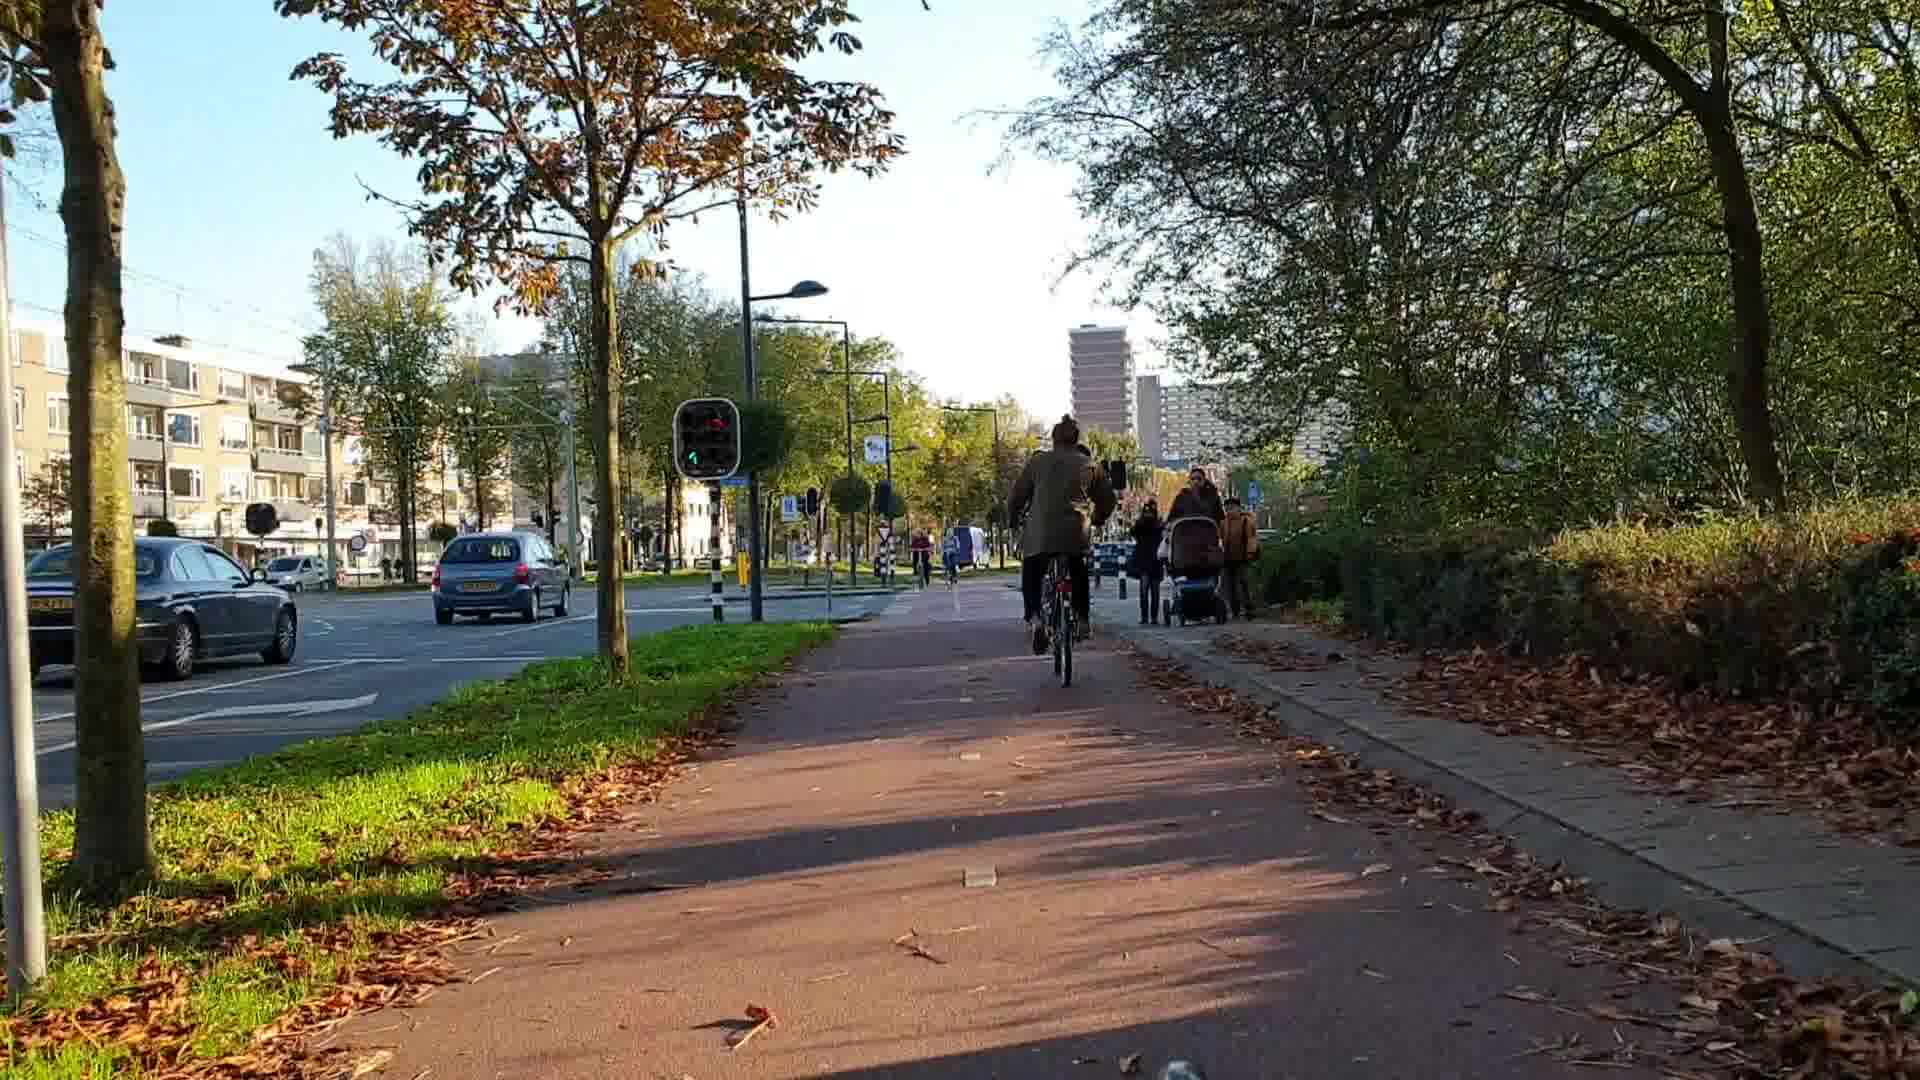car: (3, 541, 297, 673), (425, 531, 574, 624)
